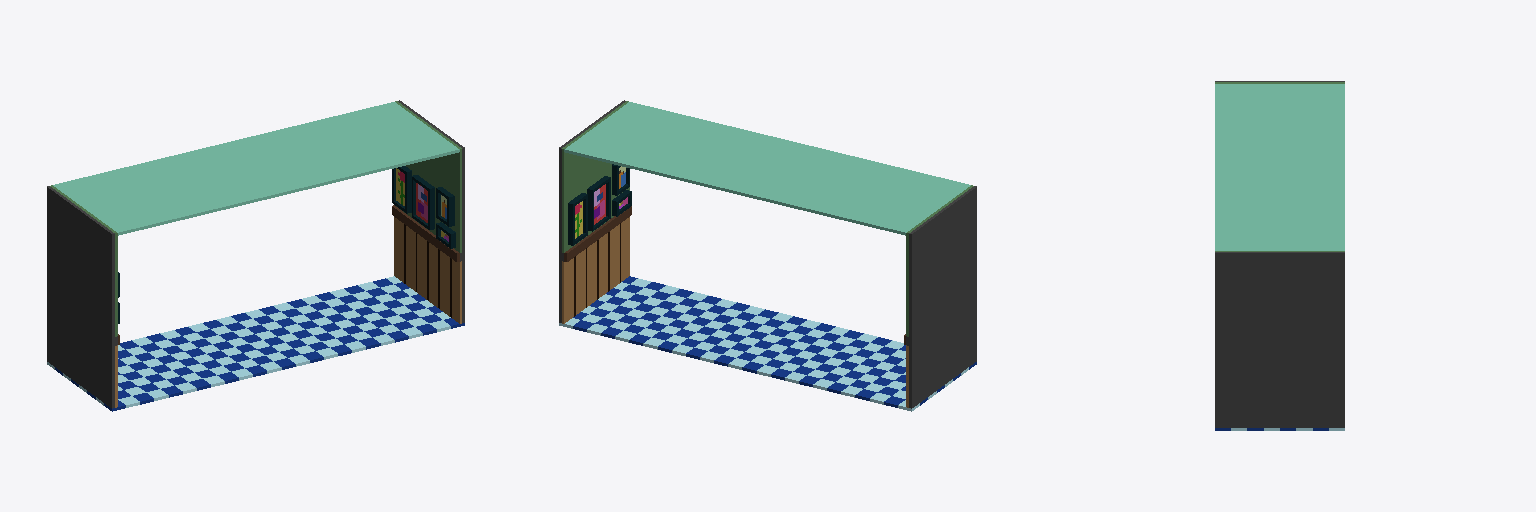
3 renders of one model, left to right at view 1: azimuth 30°, elevation 25°; view 2: azimuth 150°, elevation 25°; view 3: azimuth 270°, elevation 25°, orthographic.
Parts seen in each view (by area): view 1: object 1; view 2: object 1; view 3: object 1.
Part boxes in pixels (x1,y1,x2,y2): object 1: (47,100,464,411); object 1: (559,100,976,411); object 1: (1215,81,1344,430).
Size of the model in its own units: 12.5 by 6 by 4.
Materials: 1 (1 with a texture image).